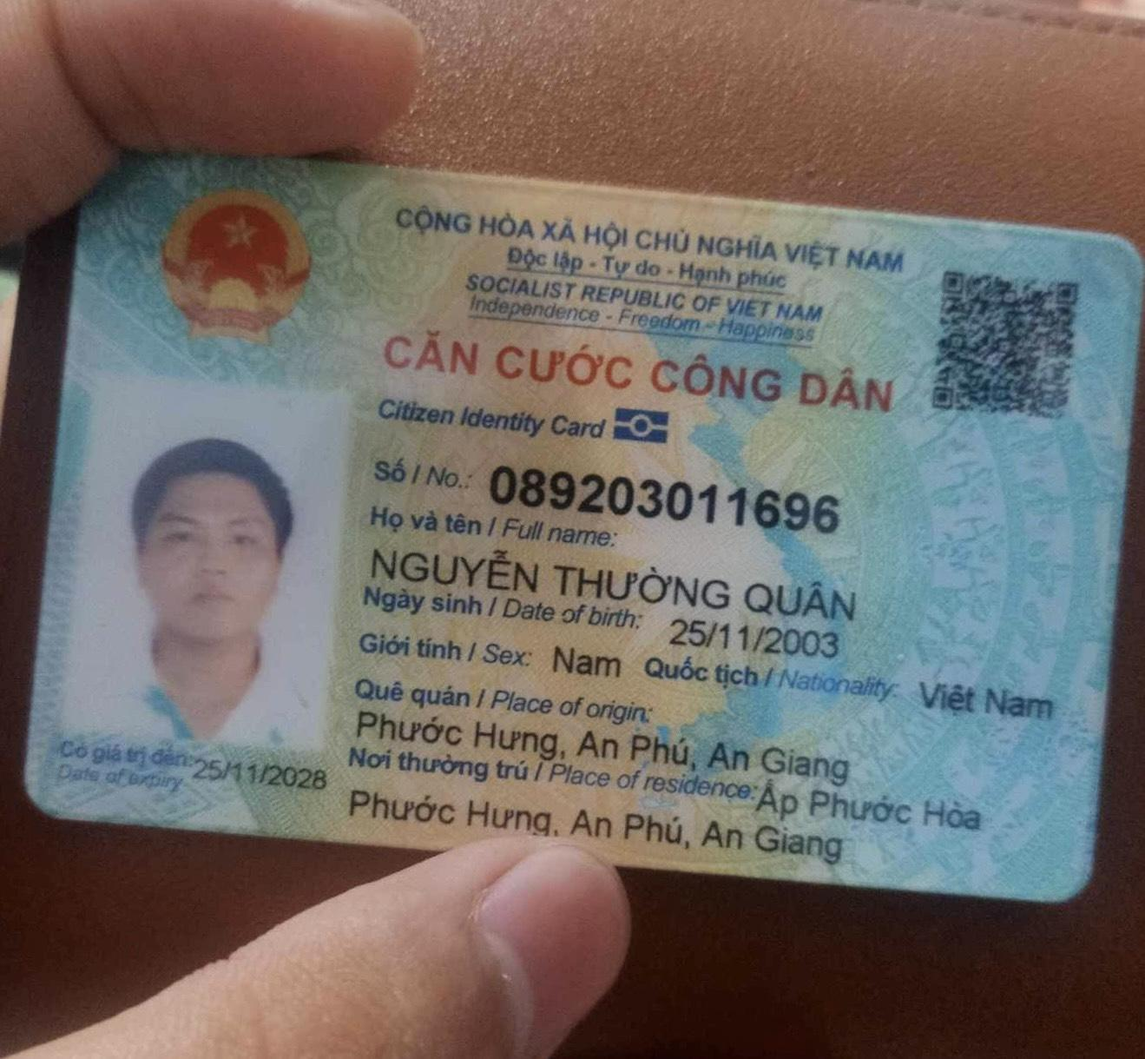ID: (480, 449, 863, 552)
birth: (654, 605, 857, 666)
name: (359, 534, 876, 635)
place: (348, 703, 867, 793)
residence: (337, 779, 867, 876), (742, 773, 1003, 842)
